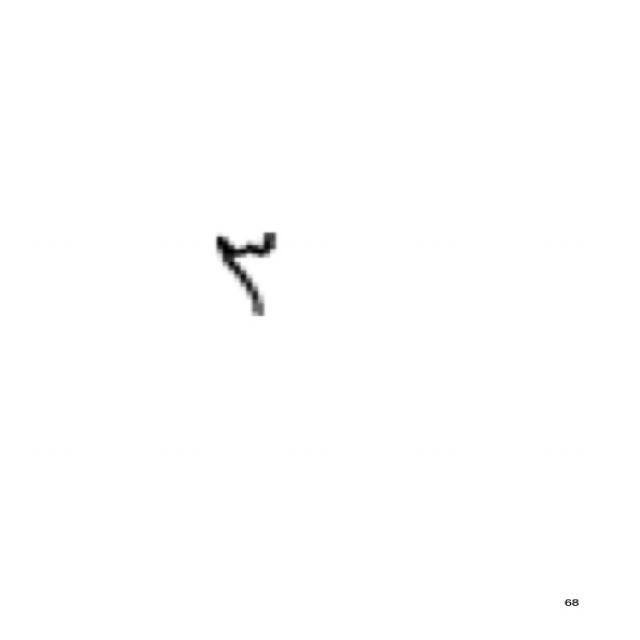3 -three-: (196, 215, 298, 330)
